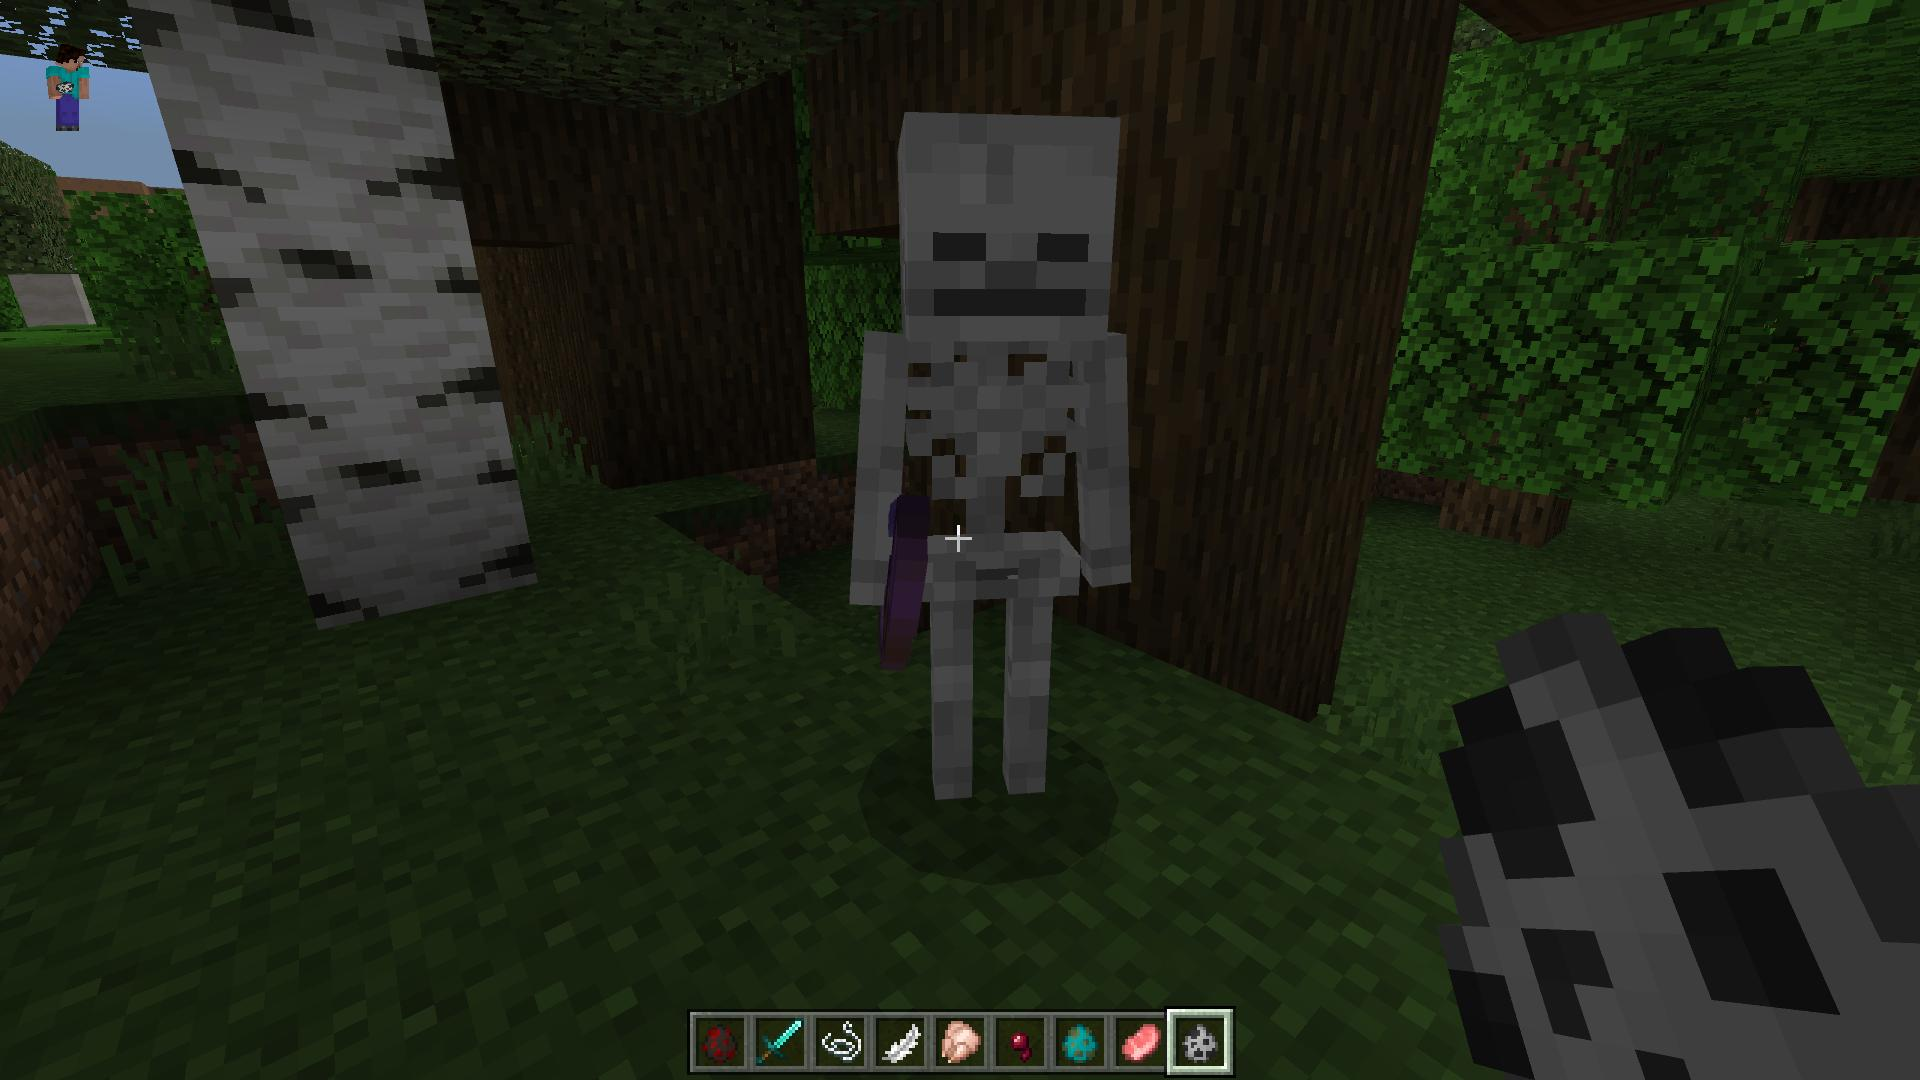skeleton: (845, 107, 1137, 803)
